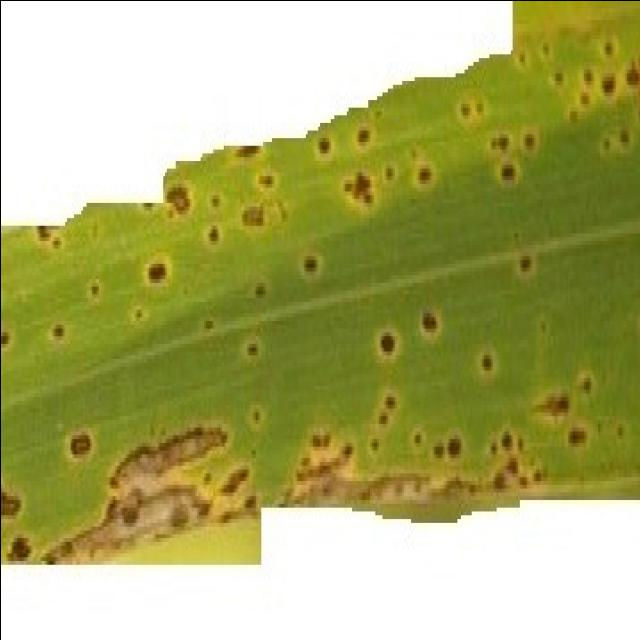Unhealthy: (37, 426, 229, 563), (281, 429, 481, 504), (455, 88, 522, 187), (517, 38, 574, 91), (492, 427, 544, 484), (592, 53, 640, 99), (367, 392, 399, 453), (138, 246, 175, 293), (378, 152, 426, 187), (405, 427, 464, 453), (160, 179, 193, 225), (200, 194, 228, 248), (339, 168, 378, 206), (530, 387, 569, 425), (373, 320, 402, 364), (350, 114, 380, 156), (217, 461, 252, 495), (30, 225, 68, 255), (513, 245, 543, 282), (307, 127, 335, 165), (418, 302, 444, 341), (519, 122, 544, 160), (83, 270, 107, 309), (563, 419, 593, 450), (412, 149, 439, 183), (235, 137, 267, 164), (66, 430, 93, 461), (45, 315, 71, 347), (241, 274, 271, 301), (475, 343, 498, 377), (298, 248, 324, 278), (239, 202, 267, 229), (0, 486, 24, 516), (246, 398, 267, 431), (7, 531, 28, 560), (573, 371, 595, 398), (0, 324, 16, 354), (242, 339, 260, 362), (608, 126, 635, 141), (128, 300, 143, 326), (258, 168, 275, 190), (200, 312, 216, 333), (242, 488, 258, 509), (579, 88, 592, 107), (201, 465, 211, 485)
